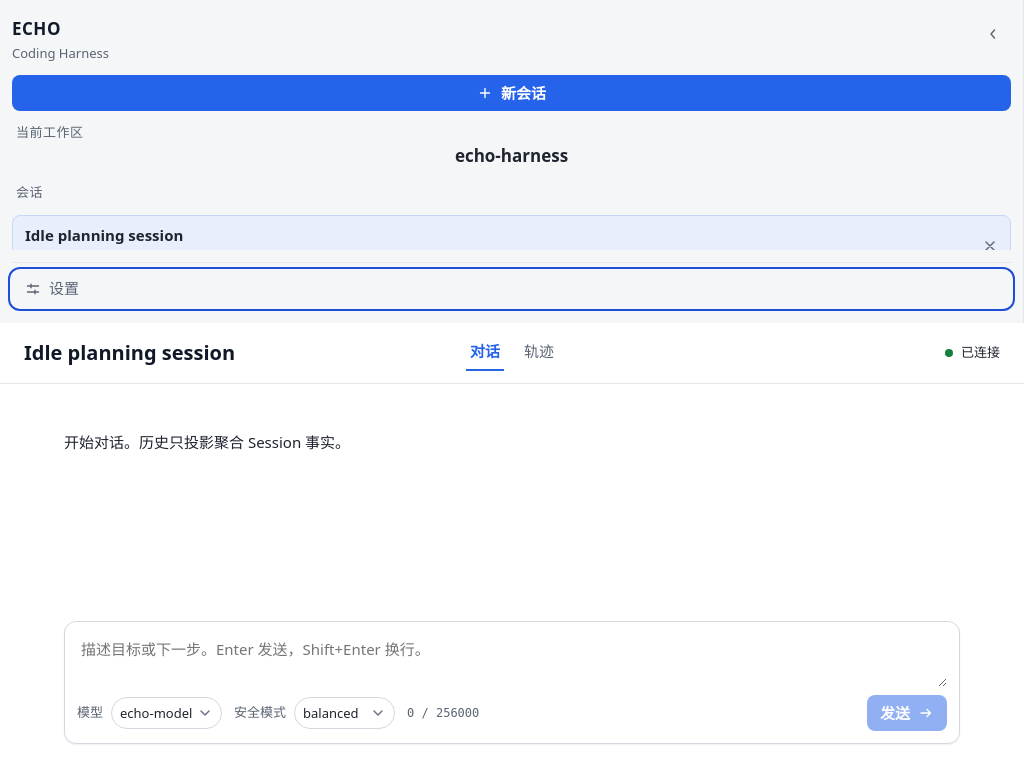
Test: Provider settings modal › moves focus into the dialog and restores it to 设置 after Escape
Click the button "设置" at (64, 288), box [12,270,1011,306]
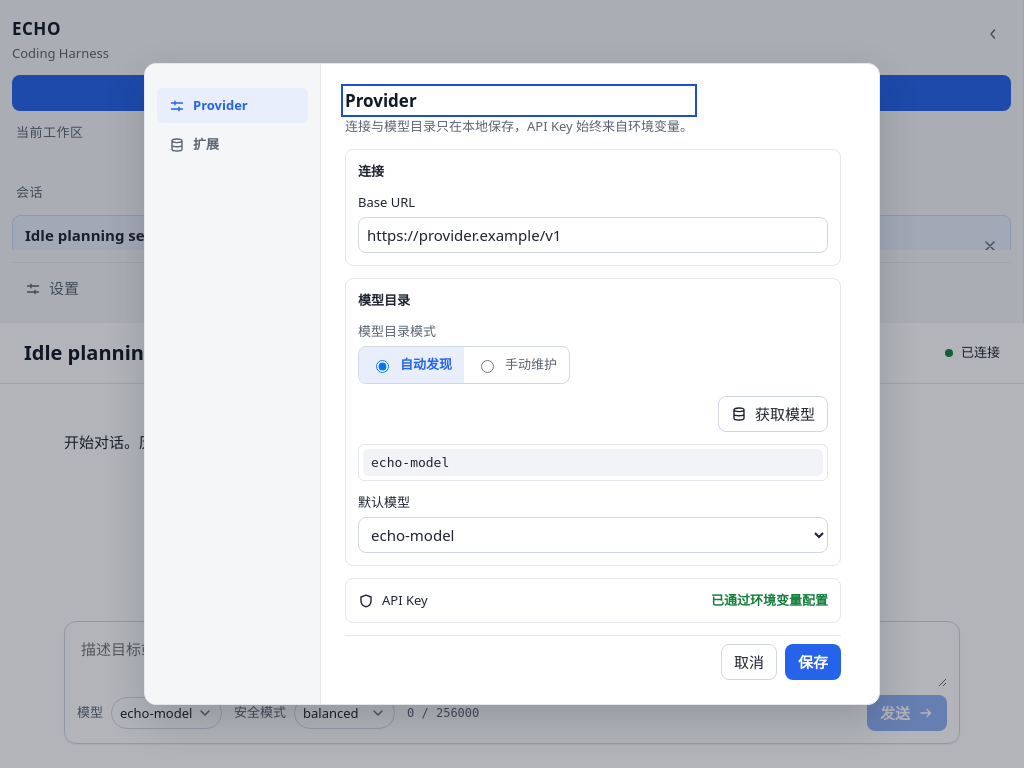
Press Escape
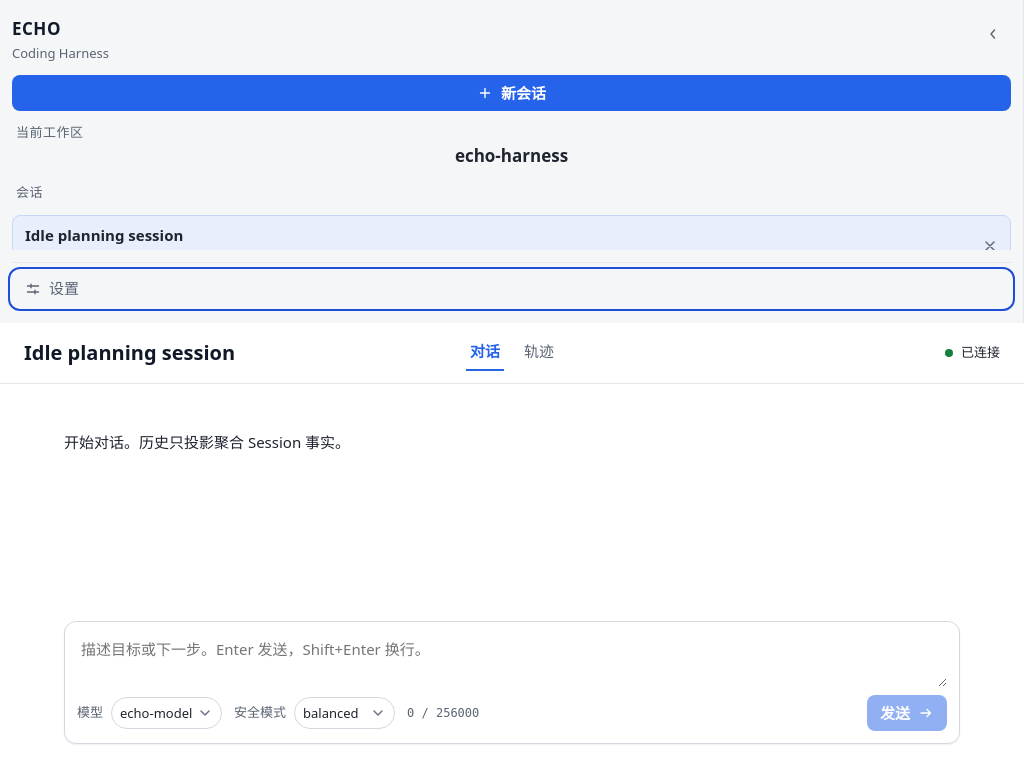
Expected: the dialog is gone
